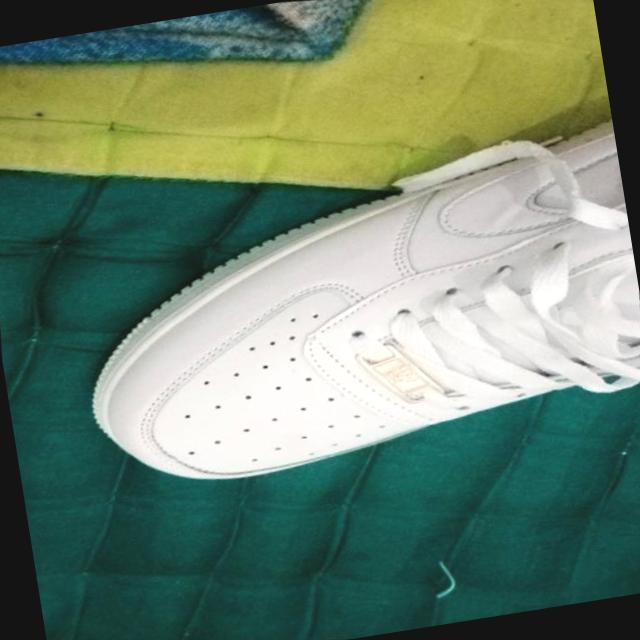nike_fake_airforce: (41, 68, 640, 539)
